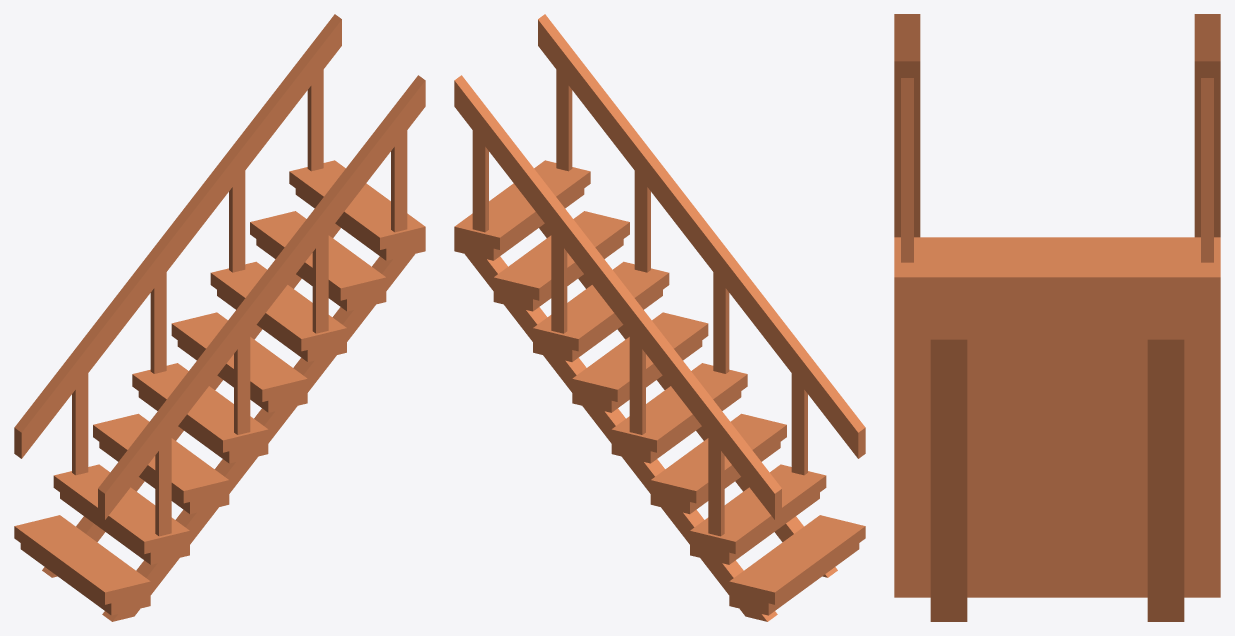
File: stairsWoodHandrail.fbx
3 renders of one model, left to right at view 1: azimuth 30°, elevation 25°; view 2: azimuth 150°, elevation 25°; view 3: azimuth 270°, elevation 25°, orthographic. The views are drawn at different scales.
Visible parts, largest first — view 1: stairsWoodHandrail, rail; view 2: stairsWoodHandrail, rail; view 3: stairsWoodHandrail, rail.
Part boxes in pixels (left/top/right/bottom): stairsWoodHandrail: left=14, top=160, right=425, bottom=621; rail: left=14, top=14, right=425, bottom=536; stairsWoodHandrail: left=454, top=160, right=865, bottom=621; rail: left=454, top=14, right=865, bottom=536; stairsWoodHandrail: left=894, top=237, right=1220, bottom=621; rail: left=894, top=14, right=1220, bottom=262.
Size of the model in its own units: 10.2 by 14.45 by 5.
